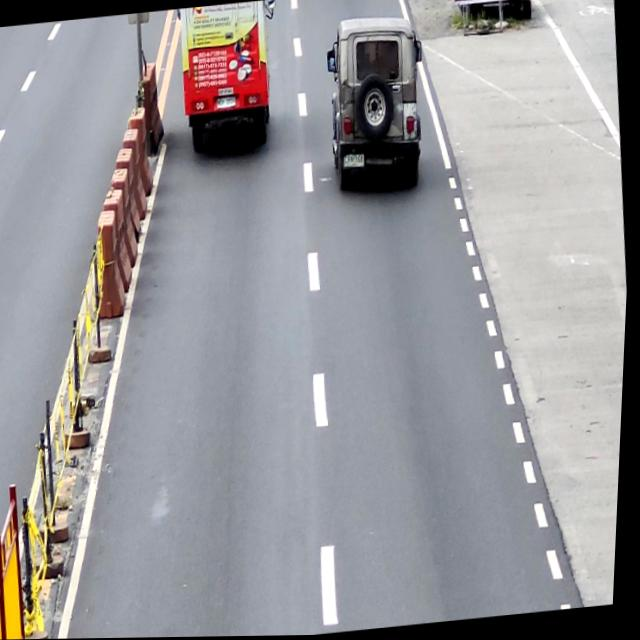Car: (319, 12, 435, 195), (172, 0, 288, 154)
License-Plate: (344, 153, 367, 171), (216, 96, 238, 109)
